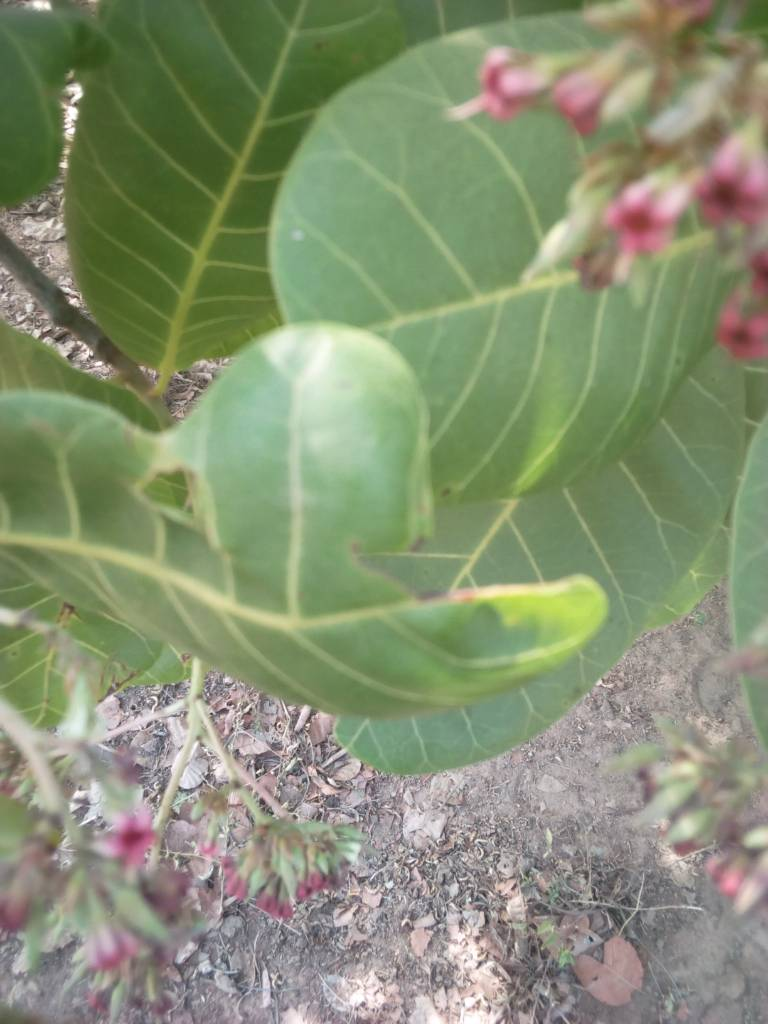Anoplonemis curvipes: (22, 380, 593, 702)
